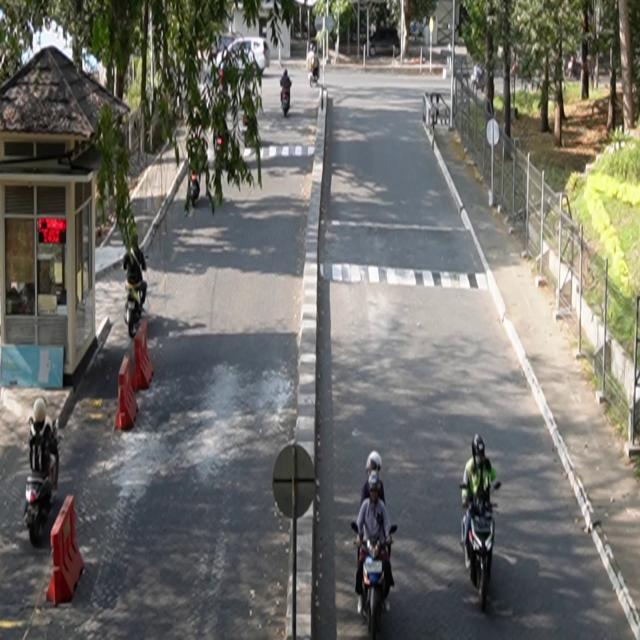car: (365, 28, 401, 59)
